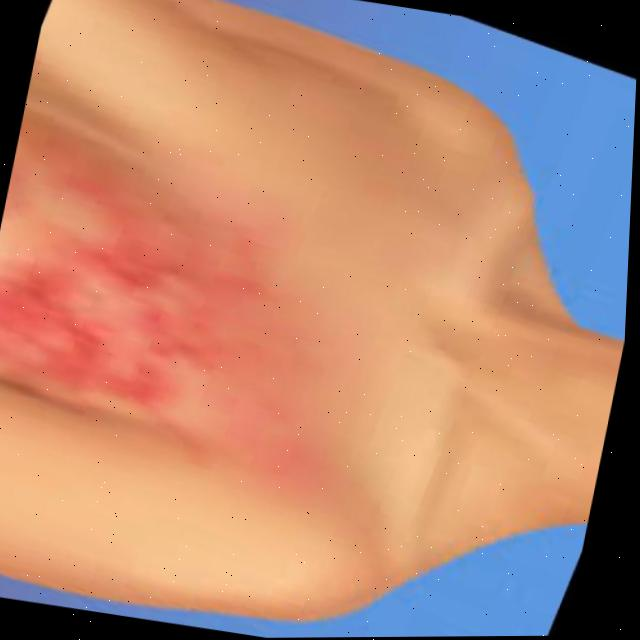Eczema: (0, 180, 284, 428)
